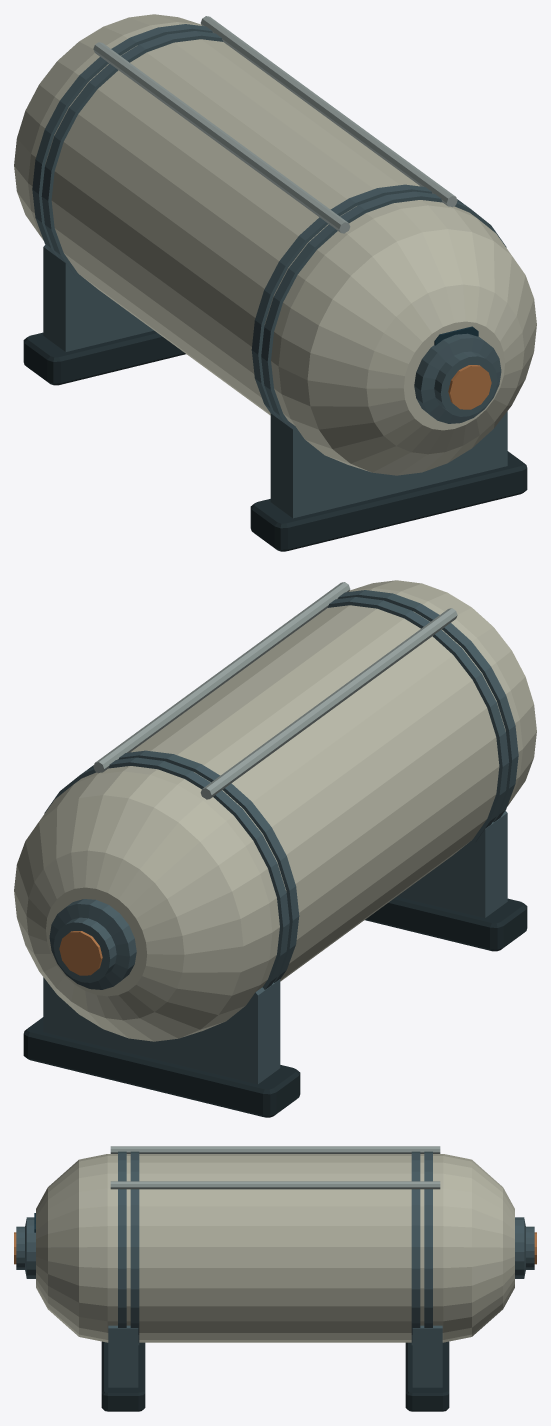
File: HC-12_vacuum_freight_flask.glb
3 views of the same model, one above another, from view 1: azimuth 30°, elevation 25°; view 2: azimuth 150°, elevation 25°; view 3: azimuth 270°, elevation 25° (orthographic). The views are drawn at different scales.
Visible parts, largest first — view 1: HC-12_vacuum_freight_flask; view 2: HC-12_vacuum_freight_flask; view 3: HC-12_vacuum_freight_flask.
Boxes of the visible parts, x1=… form: HC-12_vacuum_freight_flask: x1=14, y1=14, x2=536, y2=551; HC-12_vacuum_freight_flask: x1=14, y1=580, x2=536, y2=1117; HC-12_vacuum_freight_flask: x1=14, y1=1146, x2=536, y2=1411.
Size of the model in its own units: 1.69 by 2.02 by 4.54.
